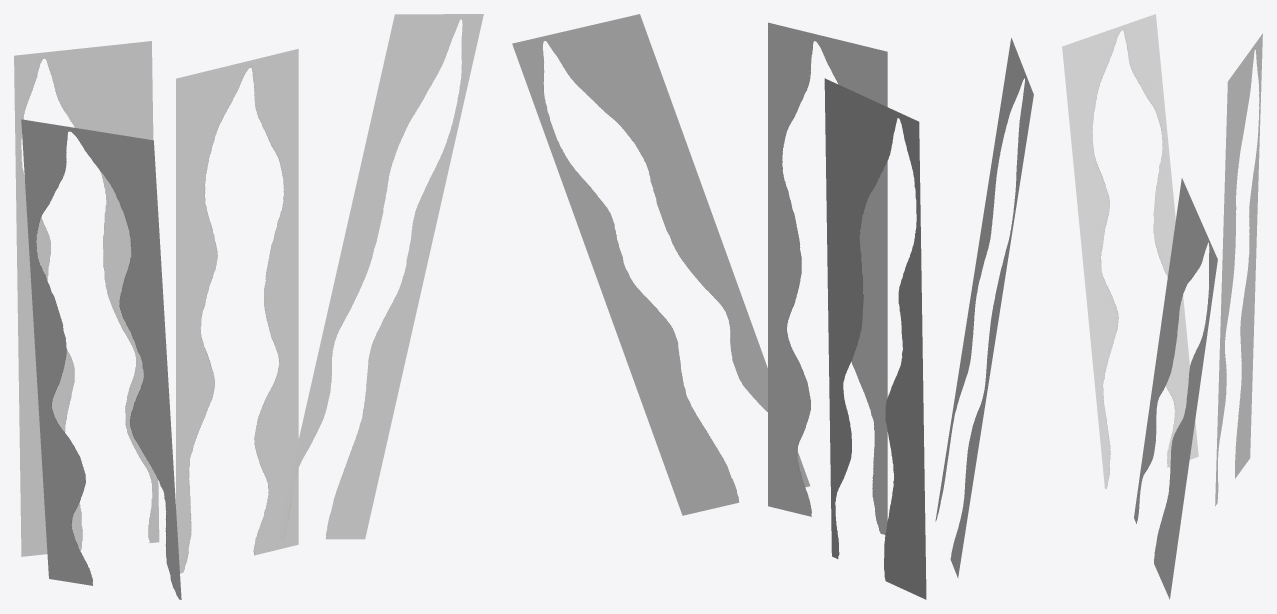
The model's file is seaweed_001.fbx.
The picture shows the model from 3 angles, left to right: view 1: azimuth 30°, elevation 25°; view 2: azimuth 150°, elevation 25°; view 3: azimuth 270°, elevation 25°; orthographic projection. The views are drawn at different scales.
Parts seen in each view (by area): view 1: seaweed_geo; view 2: seaweed_geo; view 3: seaweed_geo.
Boxes of the visible parts, x1,y1,x2,y2 form: seaweed_geo: (14, 14, 483, 599); seaweed_geo: (512, 14, 1033, 599); seaweed_geo: (1062, 14, 1262, 599).
Bounding box in the file's own units: 2.03 × 2.01 × 0.8269.
